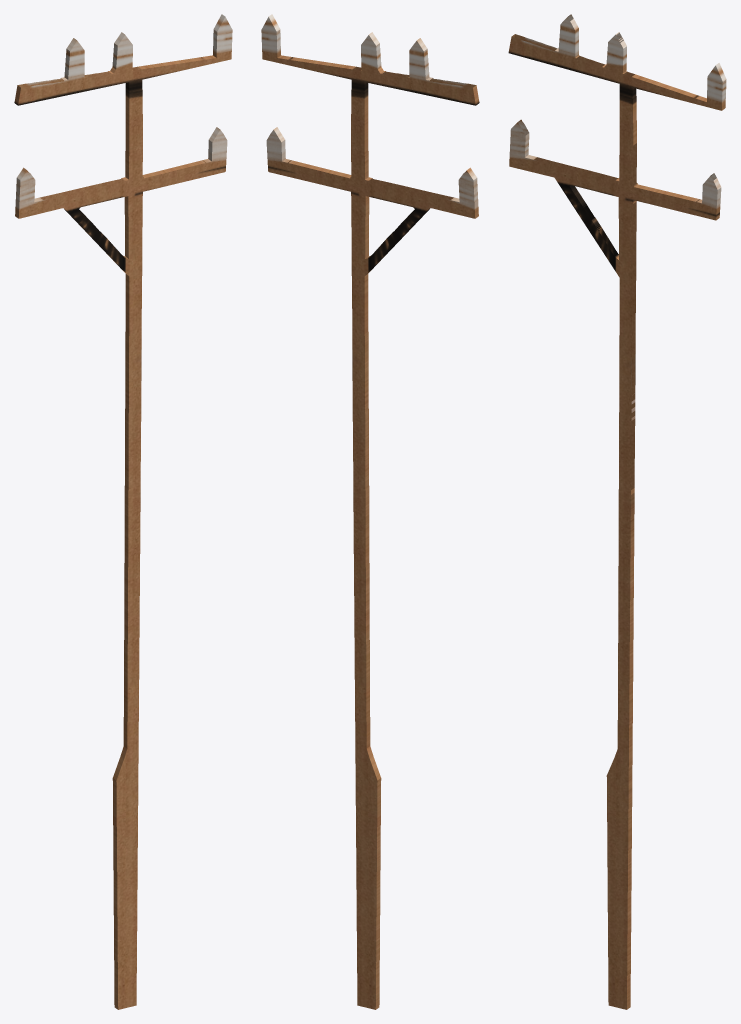
The model's file is pole_1.FBX.
3 views of the same model, side by side, from view 1: azimuth 30°, elevation 25°; view 2: azimuth 150°, elevation 25°; view 3: azimuth 330°, elevation 25° (orthographic).
Parts seen in each view (by area): view 1: pole_1; view 2: pole_1; view 3: pole_1.
Part boxes in pixels (left/top/right/bottom): pole_1: left=14, top=14, right=232, bottom=1009; pole_1: left=261, top=14, right=479, bottom=1009; pole_1: left=508, top=14, right=726, bottom=1009.
Bounding box in the file's own units: 236 × 1030 × 7.
1 material, 1 textured.
